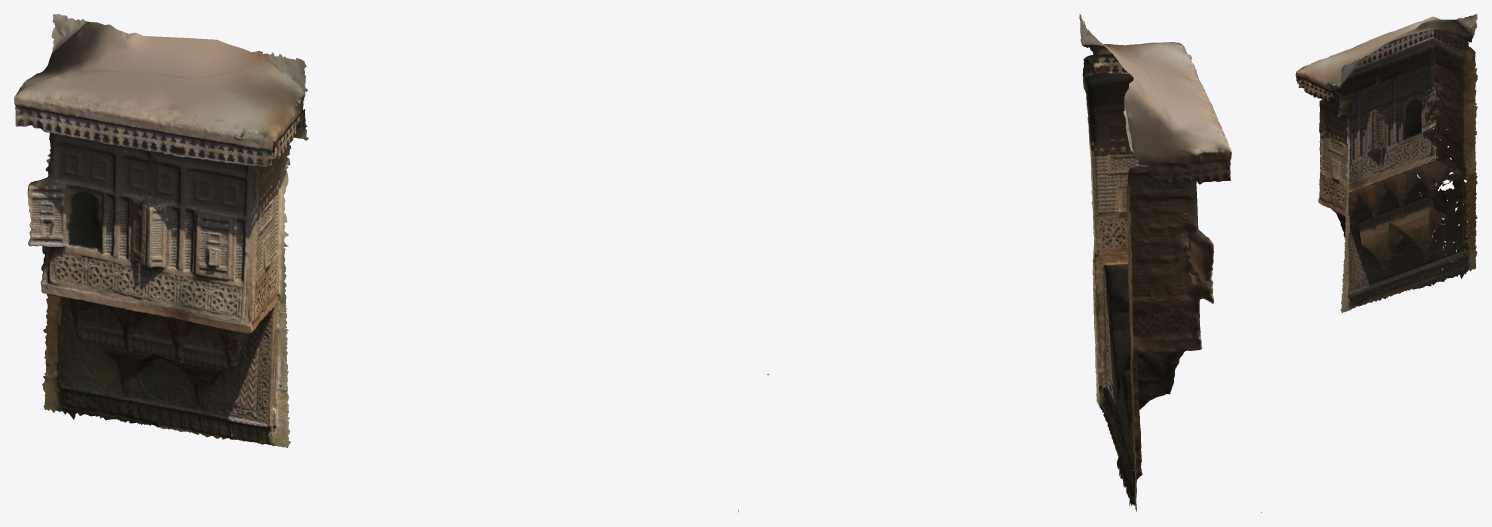
File: mashrabiya.glb
3 views of the same model, side by side, from view 1: azimuth 30°, elevation 25°; view 2: azimuth 150°, elevation 25°; view 3: azimuth 270°, elevation 25° (orthographic). The views are drawn at different scales.
Parts seen in each view (by area): view 1: Object_2, Object_3; view 2: Object_2, Object_3; view 3: Object_2, Object_3.
Part boxes in pixels (left/top/right/bottom): Object_2: left=14, top=14, right=738, bottom=511; Object_3: left=35, top=234, right=135, bottom=420; Object_2: left=767, top=14, right=1231, bottom=485; Object_3: left=1120, top=289, right=1213, bottom=511; Object_2: left=1261, top=14, right=1477, bottom=512; Object_3: left=1411, top=121, right=1477, bottom=282.
Bounding box in the file's own units: 8.6 × 7.06 × 4.15.
Materials: 1 (1 with a texture image).
